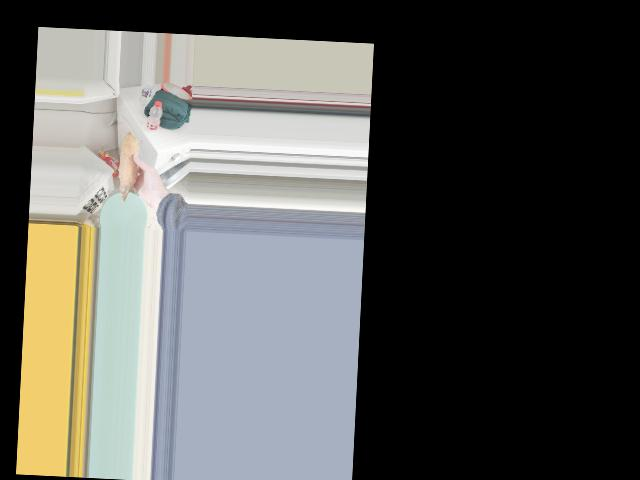sweet_potato: (118, 139, 142, 197)
